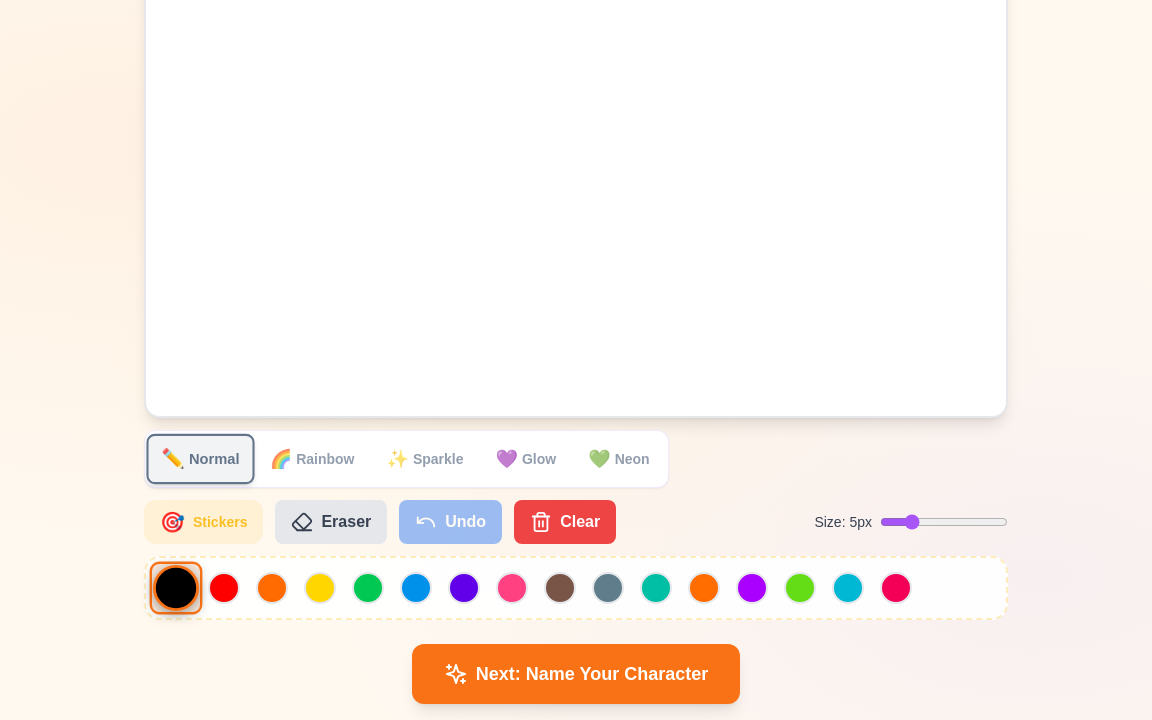
it: CharacterStudio › Preview Step (artwork preview) › shows character name input field
(page scrolled)
Click the button with test id "submit-drawing-btn".
click(576, 674)  # box [412,644,740,704]
(page scrolled)
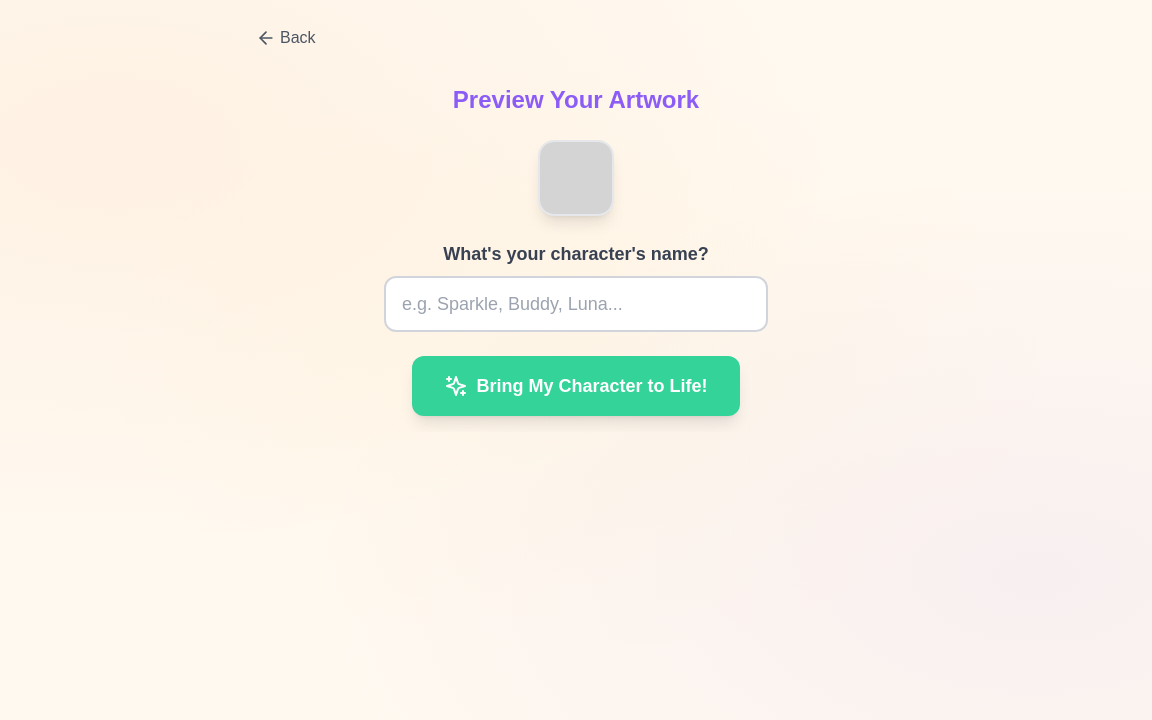
Check: the field with test id "character-name-input" is shown, box [384,276,768,332]
